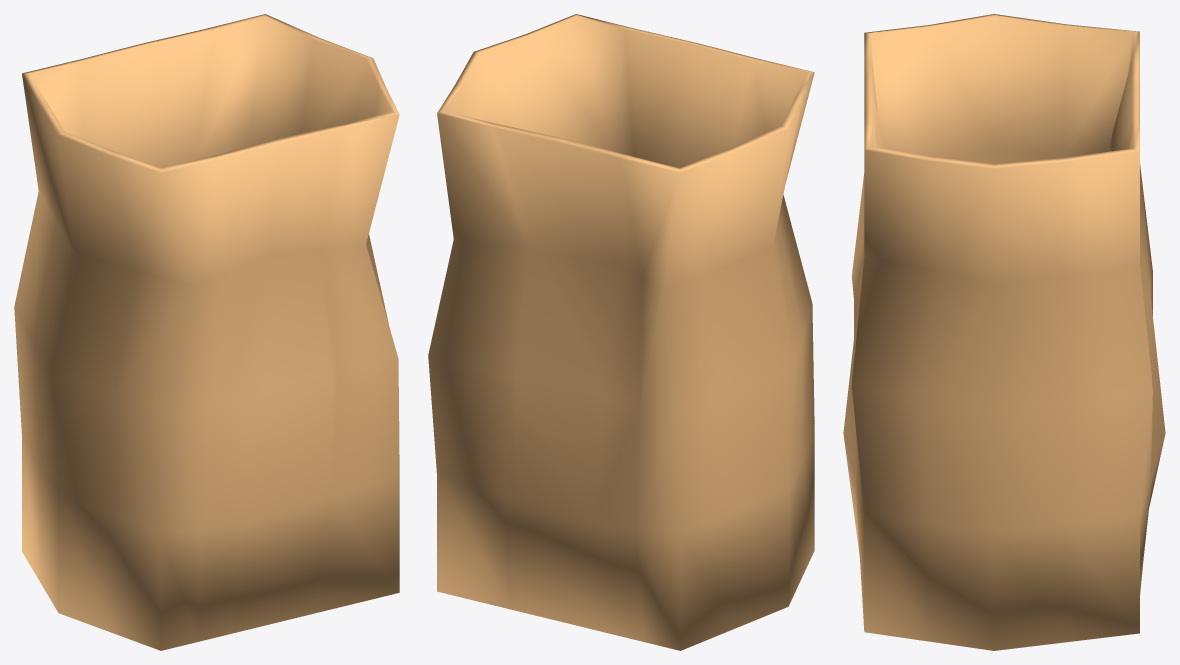
File: paper_bag.fbx
3 views of the same model, side by side, from view 1: azimuth 30°, elevation 25°; view 2: azimuth 150°, elevation 25°; view 3: azimuth 270°, elevation 25° (orthographic).
Parts seen in each view (by area): view 1: Cube; view 2: Cube; view 3: Cube.
Part boxes in pixels (box(x1,y1,x2,y2)): Cube: box(14, 14, 399, 650); Cube: box(428, 14, 814, 650); Cube: box(843, 14, 1165, 650).
Bounding box in the file's own units: 318 × 446 × 269.
